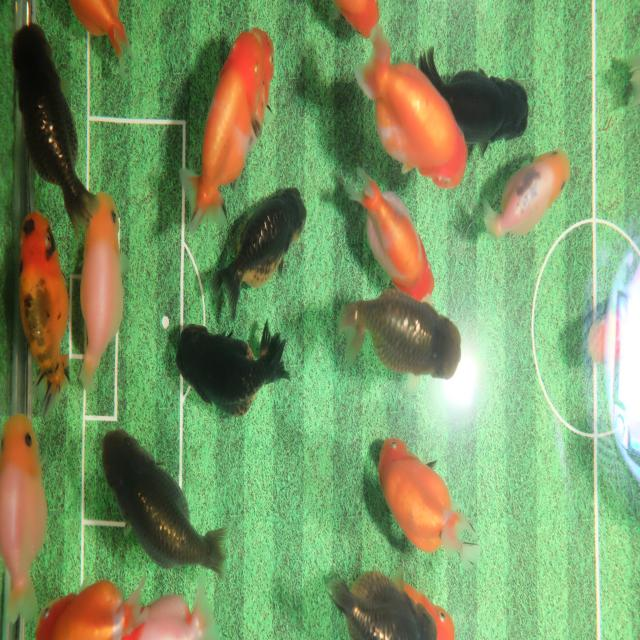Goldfish: (180, 26, 275, 238), (354, 23, 469, 191), (11, 21, 99, 237), (101, 429, 225, 578), (375, 435, 480, 575), (211, 184, 308, 324), (418, 46, 530, 163), (344, 167, 436, 304), (174, 323, 292, 422), (338, 289, 464, 380), (17, 212, 71, 419), (0, 411, 48, 626), (74, 190, 124, 393), (482, 147, 571, 242), (324, 569, 436, 640), (34, 572, 146, 640), (398, 578, 455, 640), (332, 0, 382, 42)
